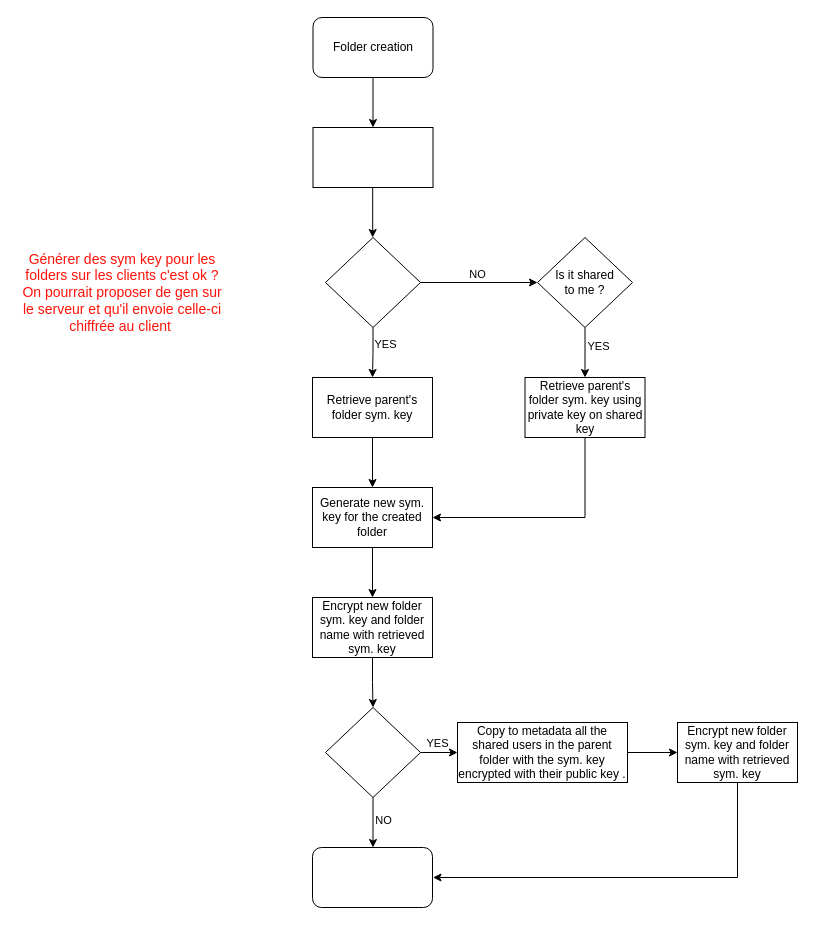
The diagram is 815 pixels wide and 925 high, and some of its shapes have lost their labels. The centre of each missing label's shape, as x and y in pixels:
Am I the owner ?: the point at 372,282
Is the parent folder already shared: the point at 372,752
Locally create folder with a chosen name: the point at 372,157
Send folder and metadata to server: the point at 372,877
